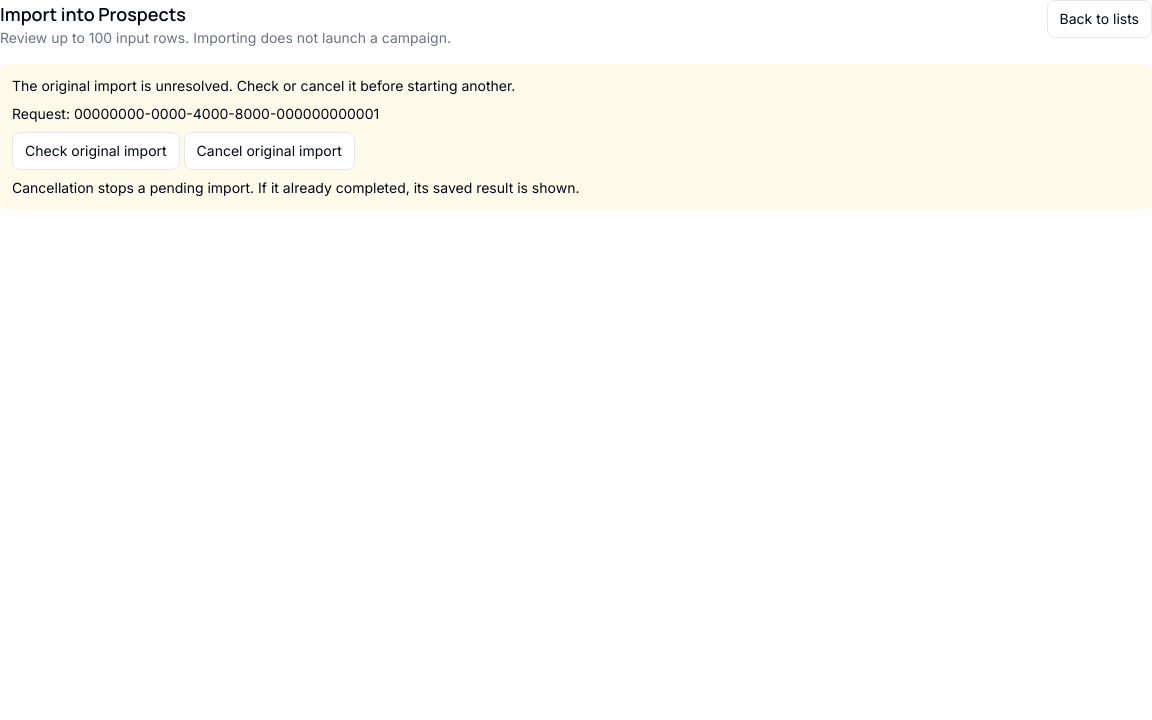
Test: Audience lists and recoverable import review › shows completion when it wins against cancellation
This screenshot has width=1152, height=720.
Click the button "Cancel original import": click(269, 151) [184,132,355,170]
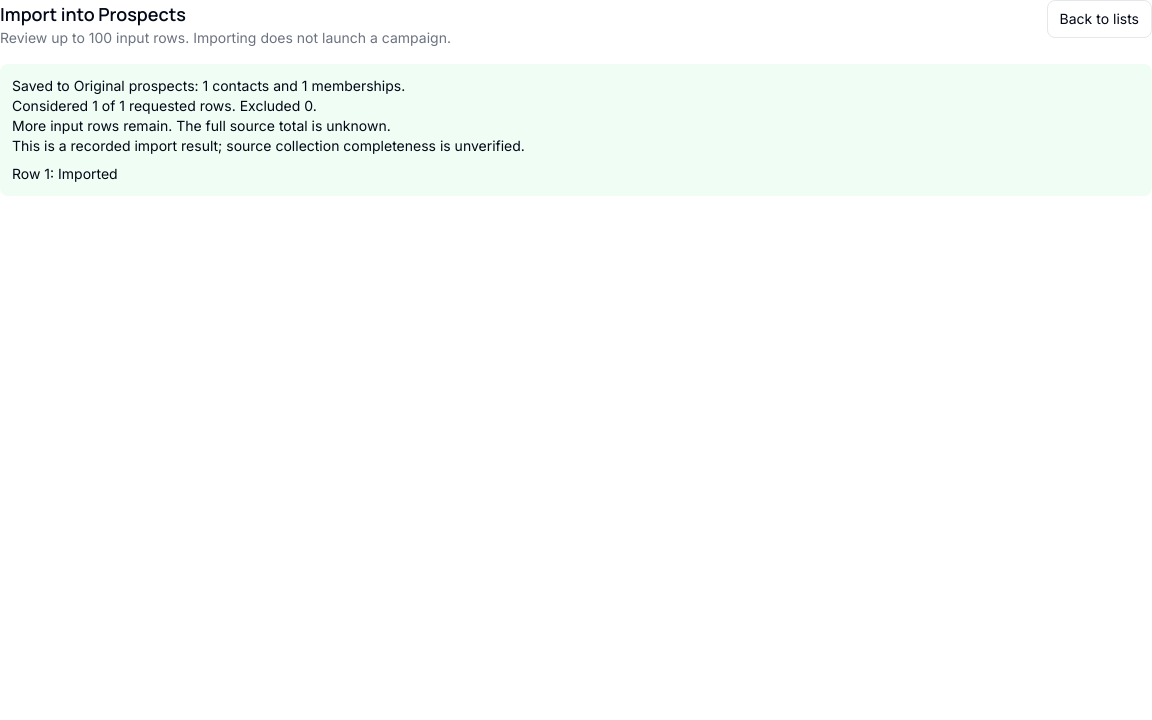
Check: the text "Saved to Original prospects" is shown, box [12,77,405,94]
